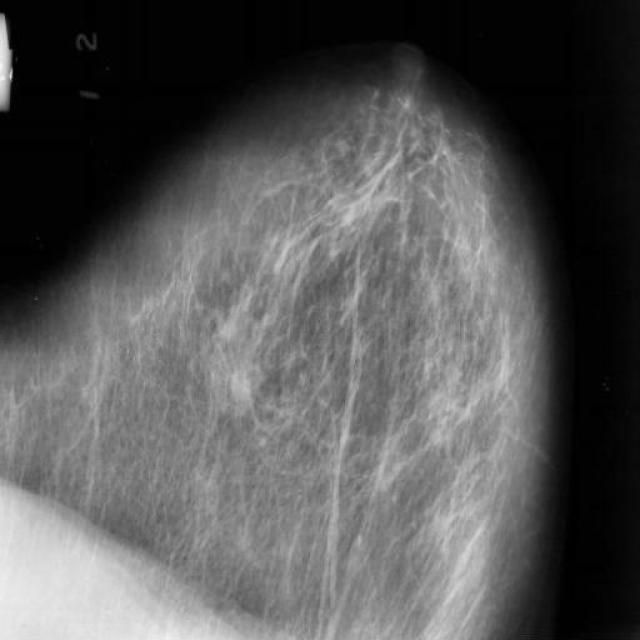cancer: (191, 180, 239, 248)
